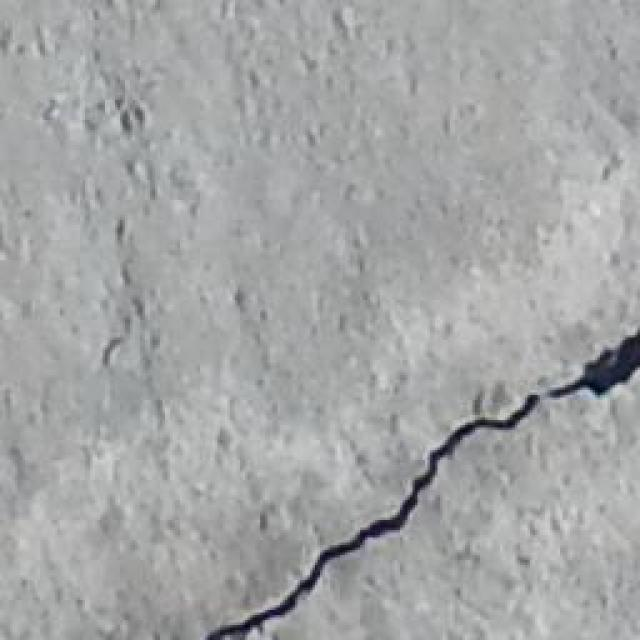concrete-crack: (200, 322, 640, 640)
